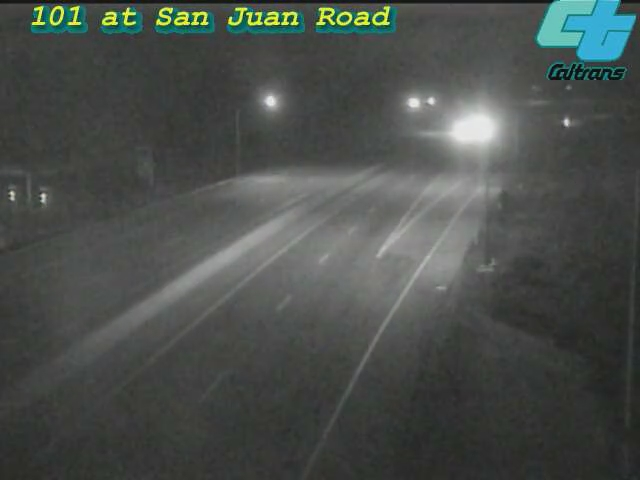vehicle: (543, 97, 593, 147), (437, 106, 487, 156), (451, 103, 501, 153)
